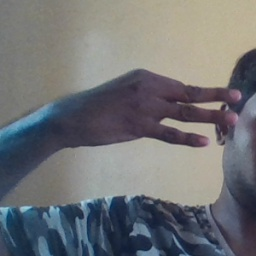K: (61, 68, 243, 156)
